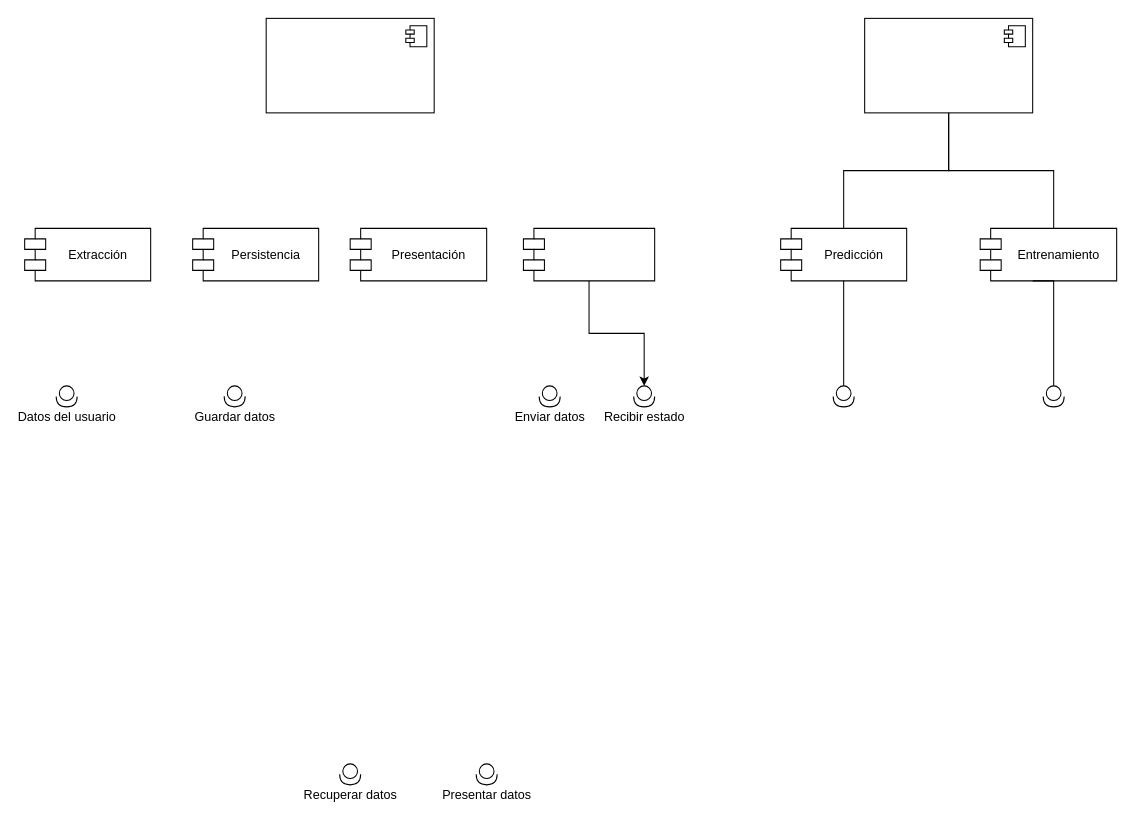
Some shapes in this 1146 by 821 pixel diagram are drawn without their labels. The centre of each missing label's shape, as x and y in pixels:
"App" goes at [349,65].
"Entrenamiento del modelo" goes at [1053,396].
"IA" goes at [588,254].
"Nube" goes at [948,65].
"Predicción del estado" goes at [843,396].
